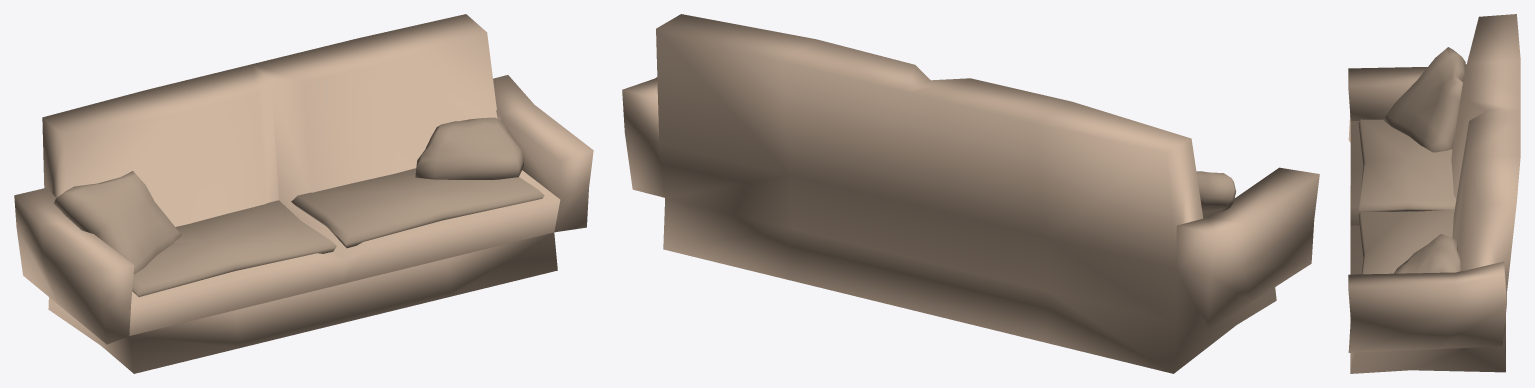
File: couch.fbx
3 views of the same model, side by side, from view 1: azimuth 30°, elevation 25°; view 2: azimuth 150°, elevation 25°; view 3: azimuth 270°, elevation 25° (orthographic). The views are drawn at different scales.
Parts seen in each view (by area): view 1: CouchBase, PillowThing, Pillows; view 2: CouchBase, Pillows; view 3: CouchBase, PillowThing, Pillows.
Part boxes in pixels (x1,y1,x2,y2): CouchBase: [14, 14, 593, 373]; PillowThing: [132, 168, 544, 296]; Pillows: [53, 117, 524, 274]; CouchBase: [622, 14, 1319, 373]; Pillows: [1196, 171, 1236, 217]; CouchBase: [1348, 14, 1520, 373]; PillowThing: [1358, 119, 1456, 274]; Pillows: [1383, 47, 1465, 273].
Size of the model in its own units: 932 by 342 by 311.
